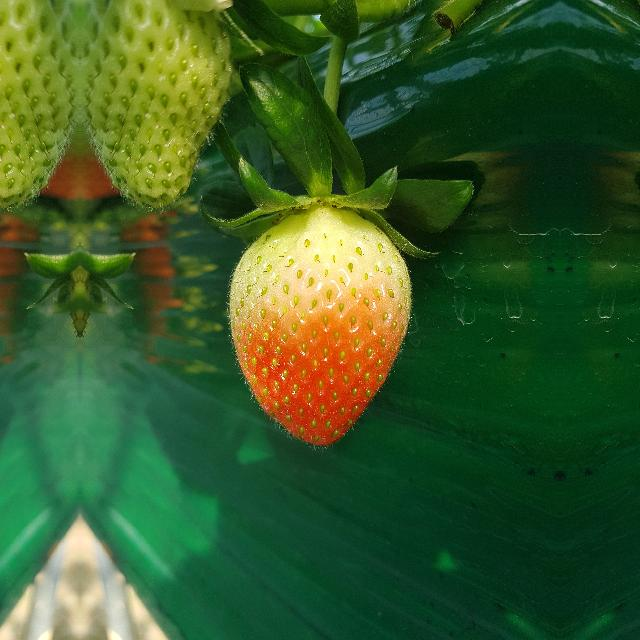Health_25: (79, 0, 232, 204), (0, 0, 80, 204)
Health_50: (227, 202, 413, 448)
